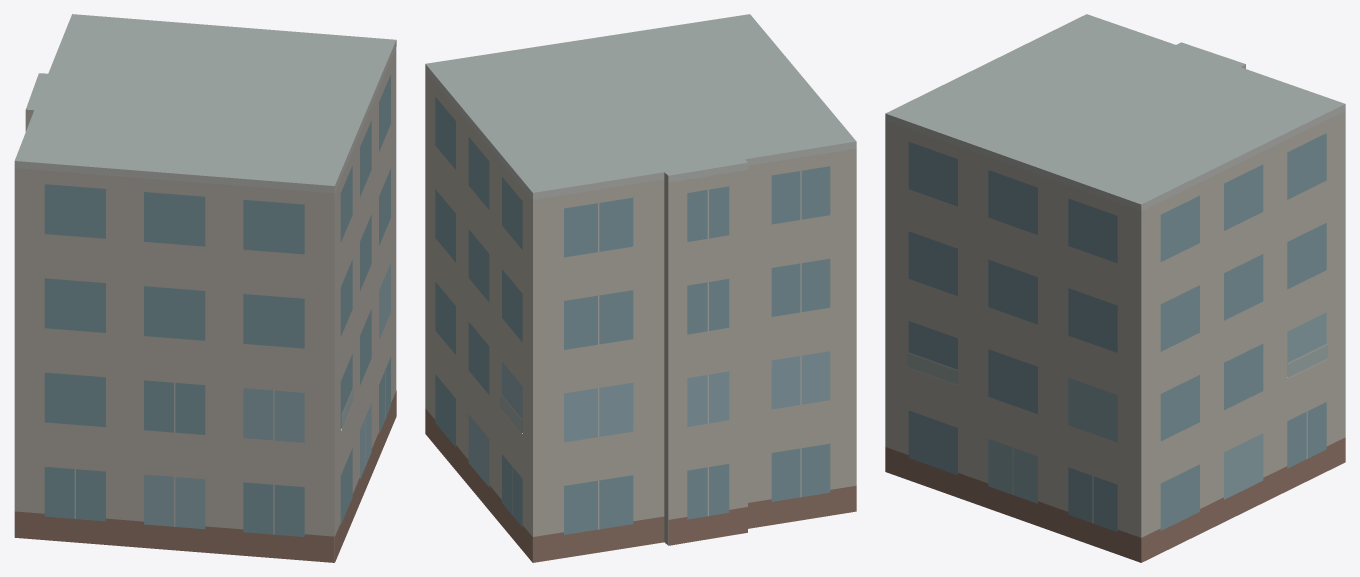
Rendered from survey-upis-32704697.glb.
3 renders of one model, left to right at view 1: azimuth 30°, elevation 25°; view 2: azimuth 150°, elevation 25°; view 3: azimuth 270°, elevation 25°, orthographic. The views are drawn at different scales.
Parts seen in each view (by area): view 1: survey-upis-32704697.tmp; view 2: survey-upis-32704697.tmp; view 3: survey-upis-32704697.tmp.
Boxes of the visible parts, x1=… form: survey-upis-32704697.tmp: x1=14, y1=14, x2=396, y2=562; survey-upis-32704697.tmp: x1=425, y1=14, x2=856, y2=562; survey-upis-32704697.tmp: x1=885, y1=14, x2=1345, y2=562.
Bounding box in the file's own units: 14.72 × 12.9 × 15.02.
